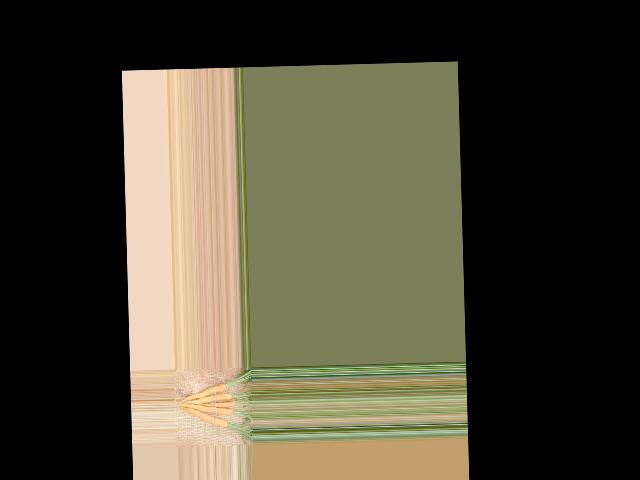carrot: (184, 382, 227, 400)
